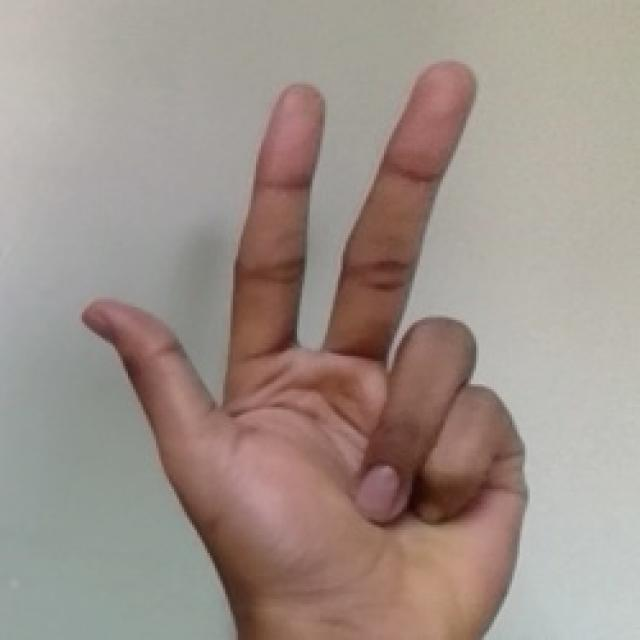Numeric-3: (86, 47, 530, 633)
